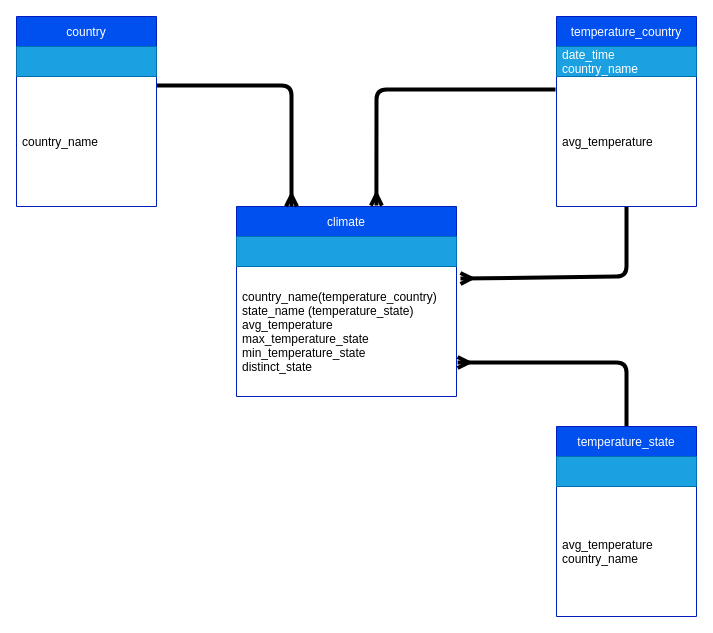
Some shapes in this 713 by 633 pixel diagram are drawn without their labels. The shapes that lost their labels are listed below. From the top down, each one's centre as x and y in pixels, then its label:
the point at 86,61: country_id
the point at 346,251: country_id (country) date_time (temperature_country)
the point at 626,471: date_time state_name
